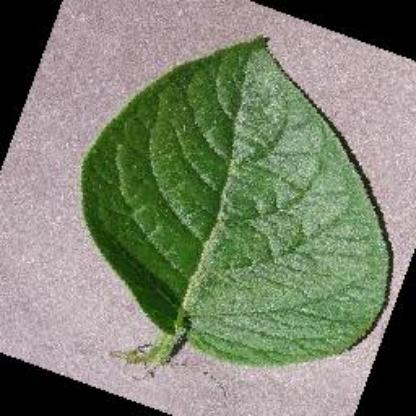Healthy-plant: (73, 29, 403, 381)
